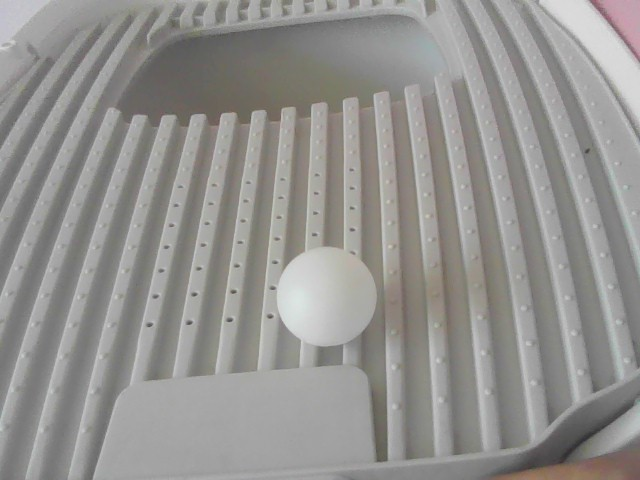ball: (280, 248, 378, 345)
